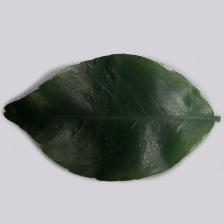healthy: (3, 52, 217, 182)
